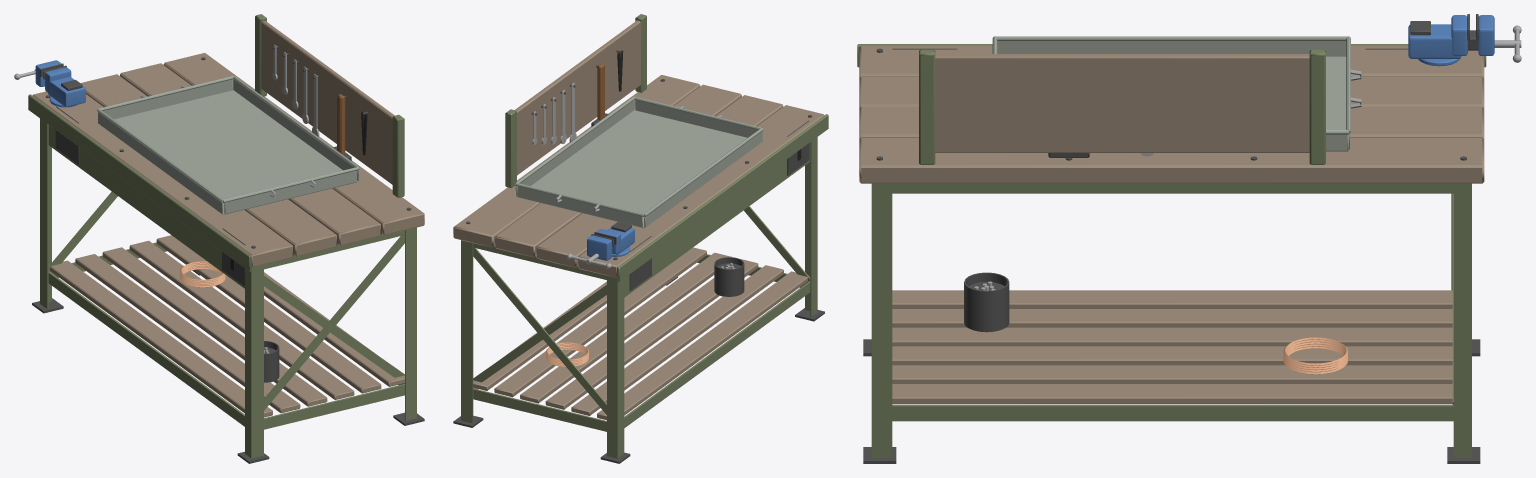
Rendered from bench.glb.
3 renders of one model, left to right at view 1: azimuth 30°, elevation 25°; view 2: azimuth 150°, elevation 25°; view 3: azimuth 270°, elevation 25°, orthographic. The views are drawn at different scales.
Visible parts, largest first — view 1: bench; view 2: bench; view 3: bench.
Boxes of the visible parts, bbox=[...] form: bench: bbox=[14, 14, 424, 463]; bench: bbox=[453, 14, 828, 463]; bench: bbox=[857, 14, 1521, 463].
Size of the model in its own units: 0.718 by 1.1 by 1.62.
